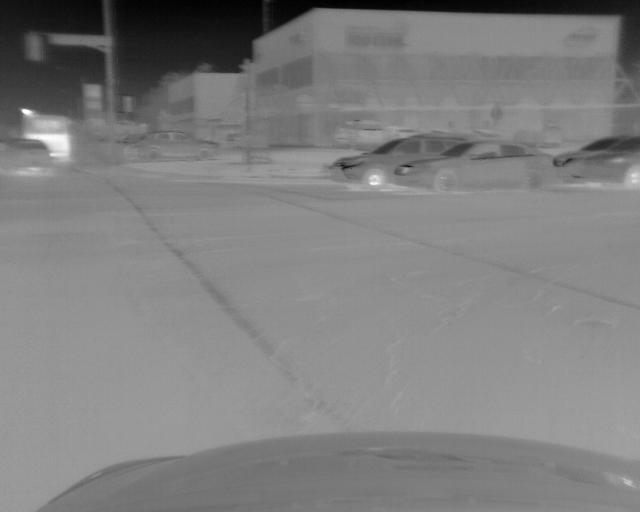car: (397, 139, 557, 196), (331, 134, 457, 191), (556, 135, 640, 189), (126, 131, 215, 161), (20, 113, 71, 161), (1, 138, 53, 173)
